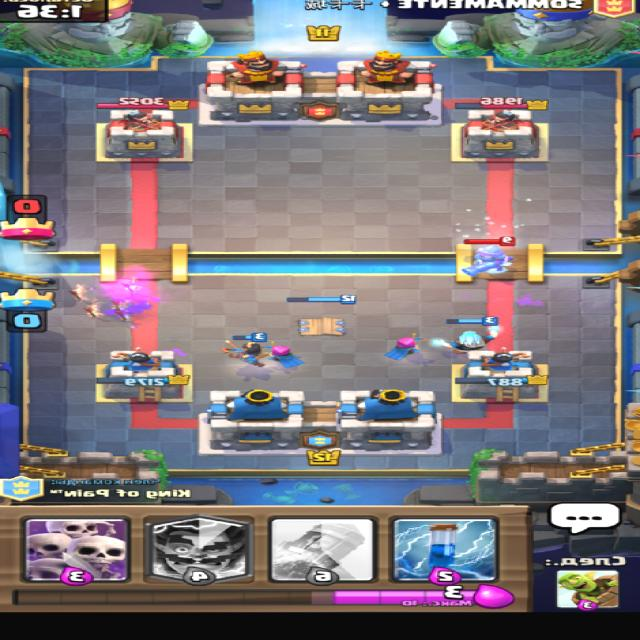Enemy-Musketeer: (460, 235, 520, 278)
Player-Archer: (384, 332, 430, 360), (263, 341, 308, 369)
Player-IceWizard: (430, 316, 504, 352)
Player-Princess: (221, 332, 271, 366)
Player-Tesla-Hidden: (286, 292, 361, 337)
